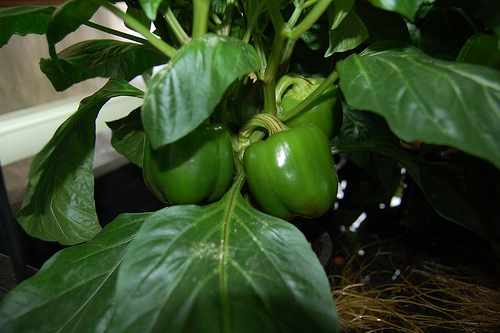capsicum: (244, 110, 340, 222), (139, 119, 234, 207), (274, 73, 339, 138)
